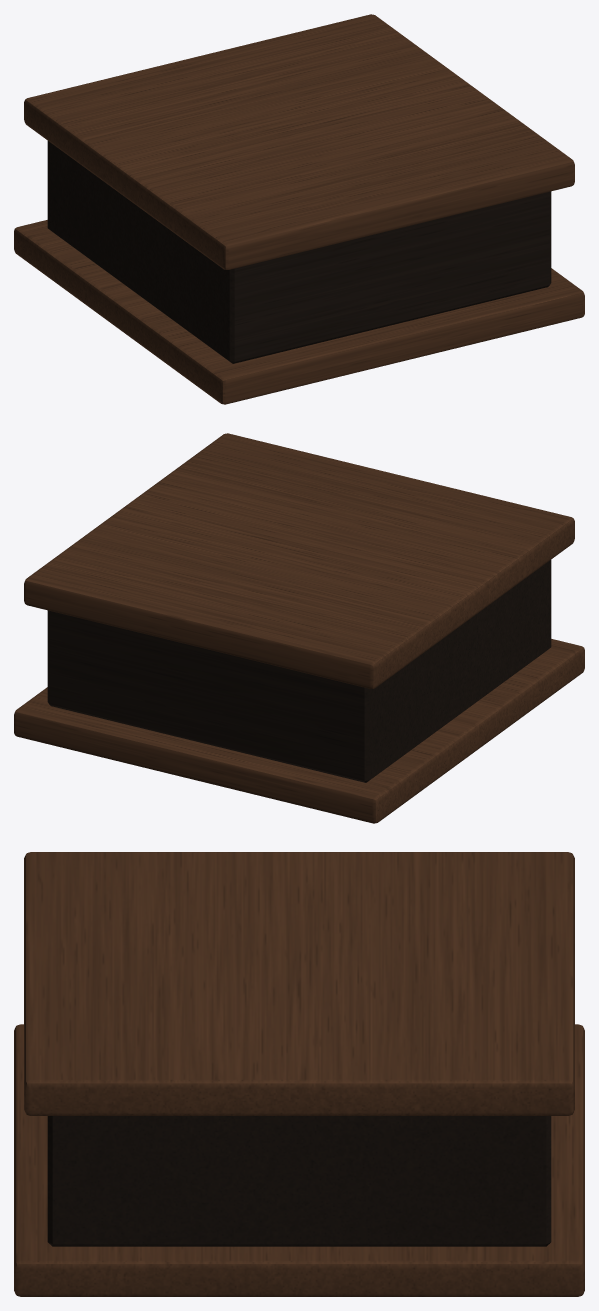
The model's file is SM_FS_Plinth.glb.
The picture shows the model from 3 angles, top to bottom: view 1: azimuth 30°, elevation 25°; view 2: azimuth 150°, elevation 25°; view 3: azimuth 270°, elevation 25°; orthographic projection. The views are drawn at different scales.
Parts seen in each view (by area): view 1: SM_FS_Plinth; view 2: SM_FS_Plinth; view 3: SM_FS_Plinth.
Part boxes in pixels (x1,y1,x2,y2): SM_FS_Plinth: (14, 14, 584, 404); SM_FS_Plinth: (14, 433, 584, 823); SM_FS_Plinth: (14, 852, 584, 1296).
Size of the model in its own units: 0.17 by 0.07 by 0.17.
Materials: 1 (1 with a texture image).
